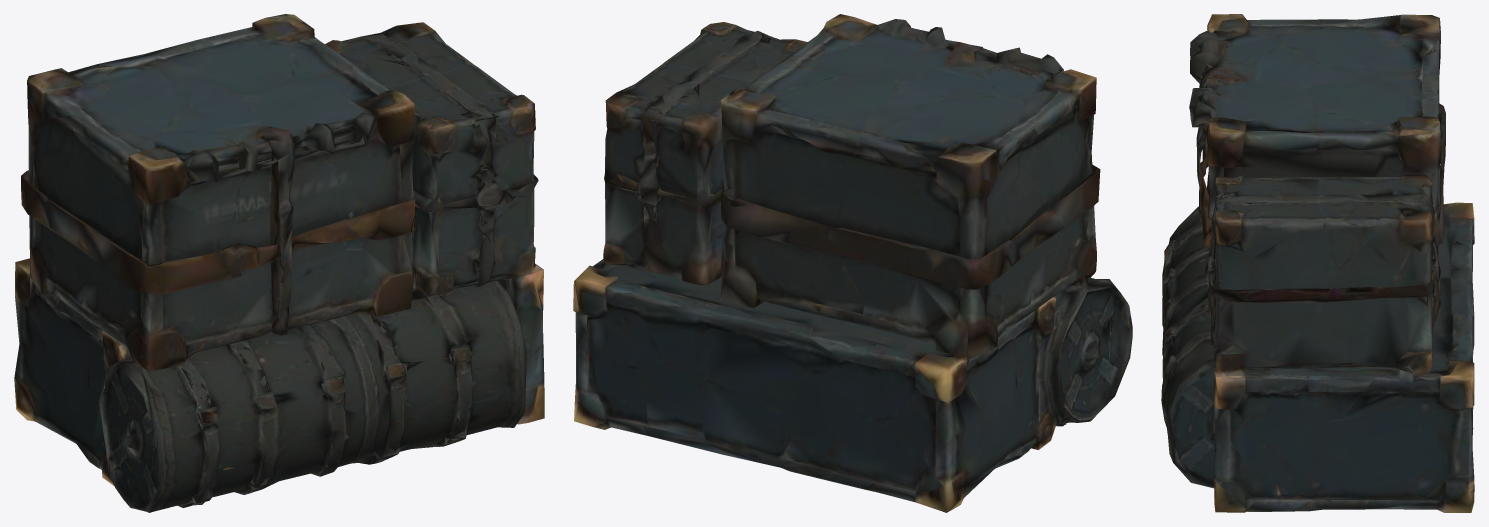
The model's file is supply_crate.glb.
3 renders of one model, left to right at view 1: azimuth 30°, elevation 25°; view 2: azimuth 150°, elevation 25°; view 3: azimuth 270°, elevation 25°, orthographic. The views are drawn at different scales.
Bounding box in the file's own units: 1.9 × 1.56 × 1.36.
Materials: 1 (1 with a texture image).
